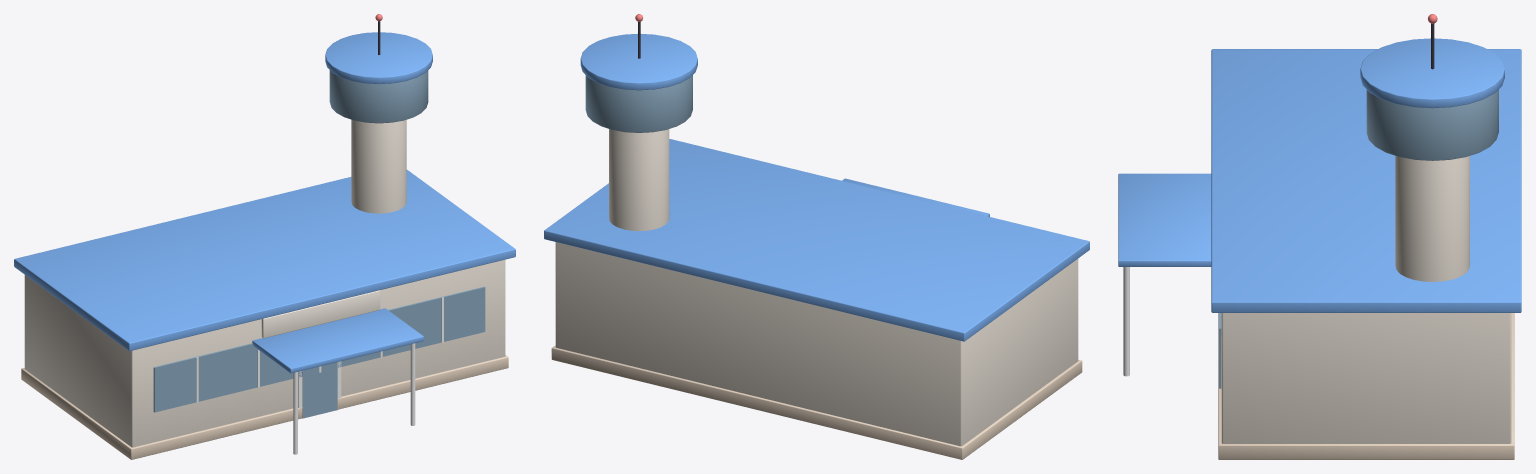
Rendered from airport_terminal.glb.
3 renders of one model, left to right at view 1: azimuth 30°, elevation 25°; view 2: azimuth 150°, elevation 25°; view 3: azimuth 270°, elevation 25°, orthographic. The views are drawn at different scales.
Parts seen in each view (by area): view 1: airport_terminal; view 2: airport_terminal; view 3: airport_terminal.
Boxes of the visible parts, bbox=[...] form: airport_terminal: bbox=[14, 14, 515, 459]; airport_terminal: bbox=[544, 14, 1089, 459]; airport_terminal: bbox=[1118, 14, 1521, 459].
Size of the model in its own units: 14.5 by 11.02 by 9.75.
